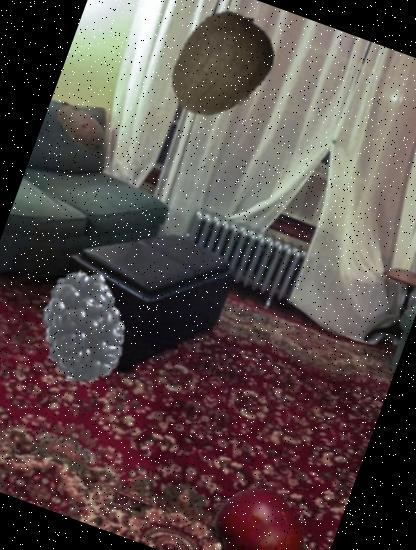Kiwi: (142, 0, 293, 141)
Mulberry: (11, 253, 155, 397)
Nectarine: (197, 475, 316, 550)
Potato: (38, 86, 120, 168)
